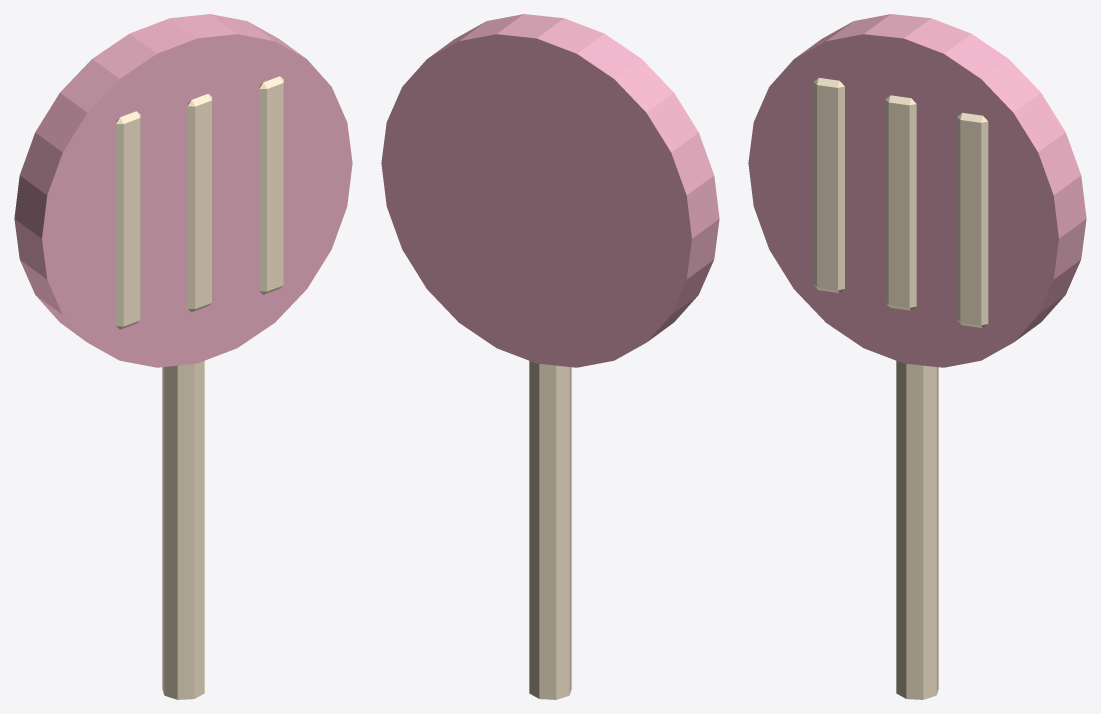
Rendered from lollipop.glb.
3 renders of one model, left to right at view 1: azimuth 30°, elevation 25°; view 2: azimuth 150°, elevation 25°; view 3: azimuth 330°, elevation 25°, orthographic.
Visible parts, largest first — view 1: lollipop, candy-stick, candy-stripe.001, candy-stripe, candy-stripe.002; view 2: lollipop, candy-stick; view 3: lollipop, candy-stick, candy-stripe.001, candy-stripe.002, candy-stripe.
Part boxes in pixels (x1,y1,x2,y2): lollipop: [14, 14, 352, 367]; candy-stick: [162, 361, 204, 699]; candy-stripe.001: [187, 93, 212, 311]; candy-stripe: [116, 111, 140, 329]; candy-stripe.002: [259, 76, 283, 294]; lollipop: [381, 14, 719, 367]; candy-stick: [529, 361, 571, 699]; lollipop: [748, 14, 1086, 367]; candy-stick: [896, 361, 938, 699]; candy-stripe.001: [885, 95, 916, 310]; candy-stripe.002: [957, 112, 988, 328]; candy-stripe: [813, 78, 844, 293].
Bounding box in the file's own units: 1.3 × 2.65 × 0.2475.
